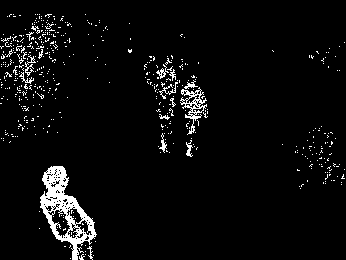person: (38, 164, 97, 260), (179, 72, 210, 159)
